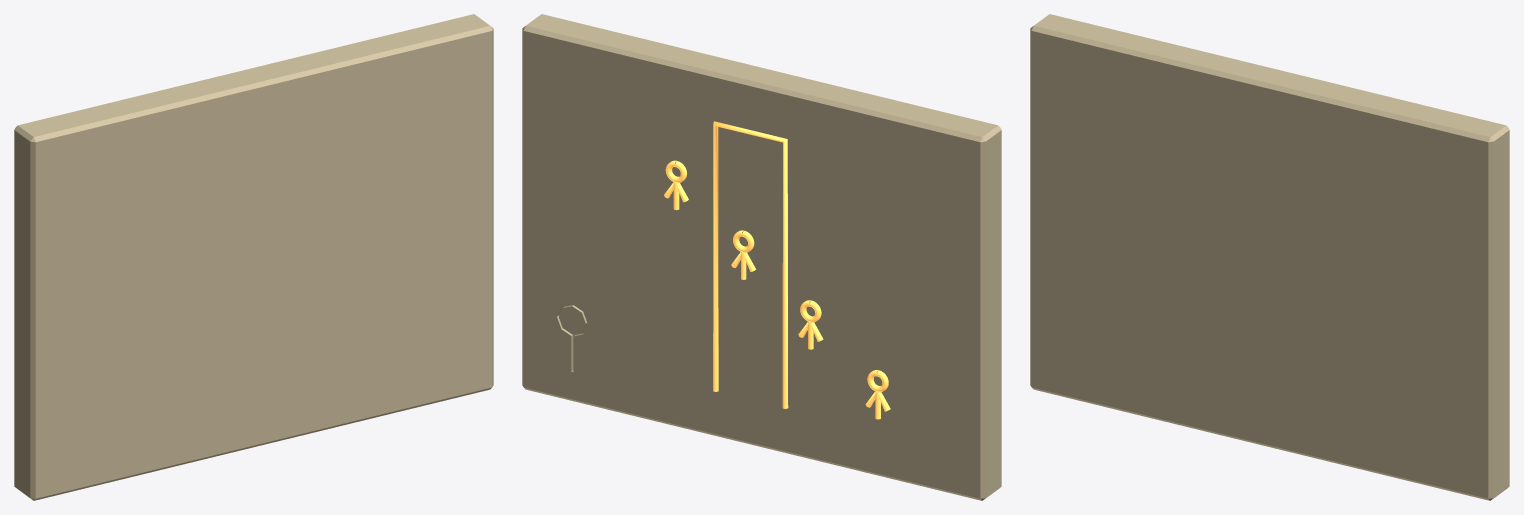
Rendered from mural_4.glb.
3 views of the same model, side by side, from view 1: azimuth 30°, elevation 25°; view 2: azimuth 150°, elevation 25°; view 3: azimuth 330°, elevation 25° (orthographic).
Parts seen in each view (by area): view 1: mural_4; view 2: mural_4; view 3: mural_4.
Boxes of the visible parts, <box> form: mural_4: <box>14,14,493,500</box>; mural_4: <box>522,14,1001,500</box>; mural_4: <box>1030,14,1509,500</box>.
Size of the model in its own units: 4 by 3 by 0.344.
